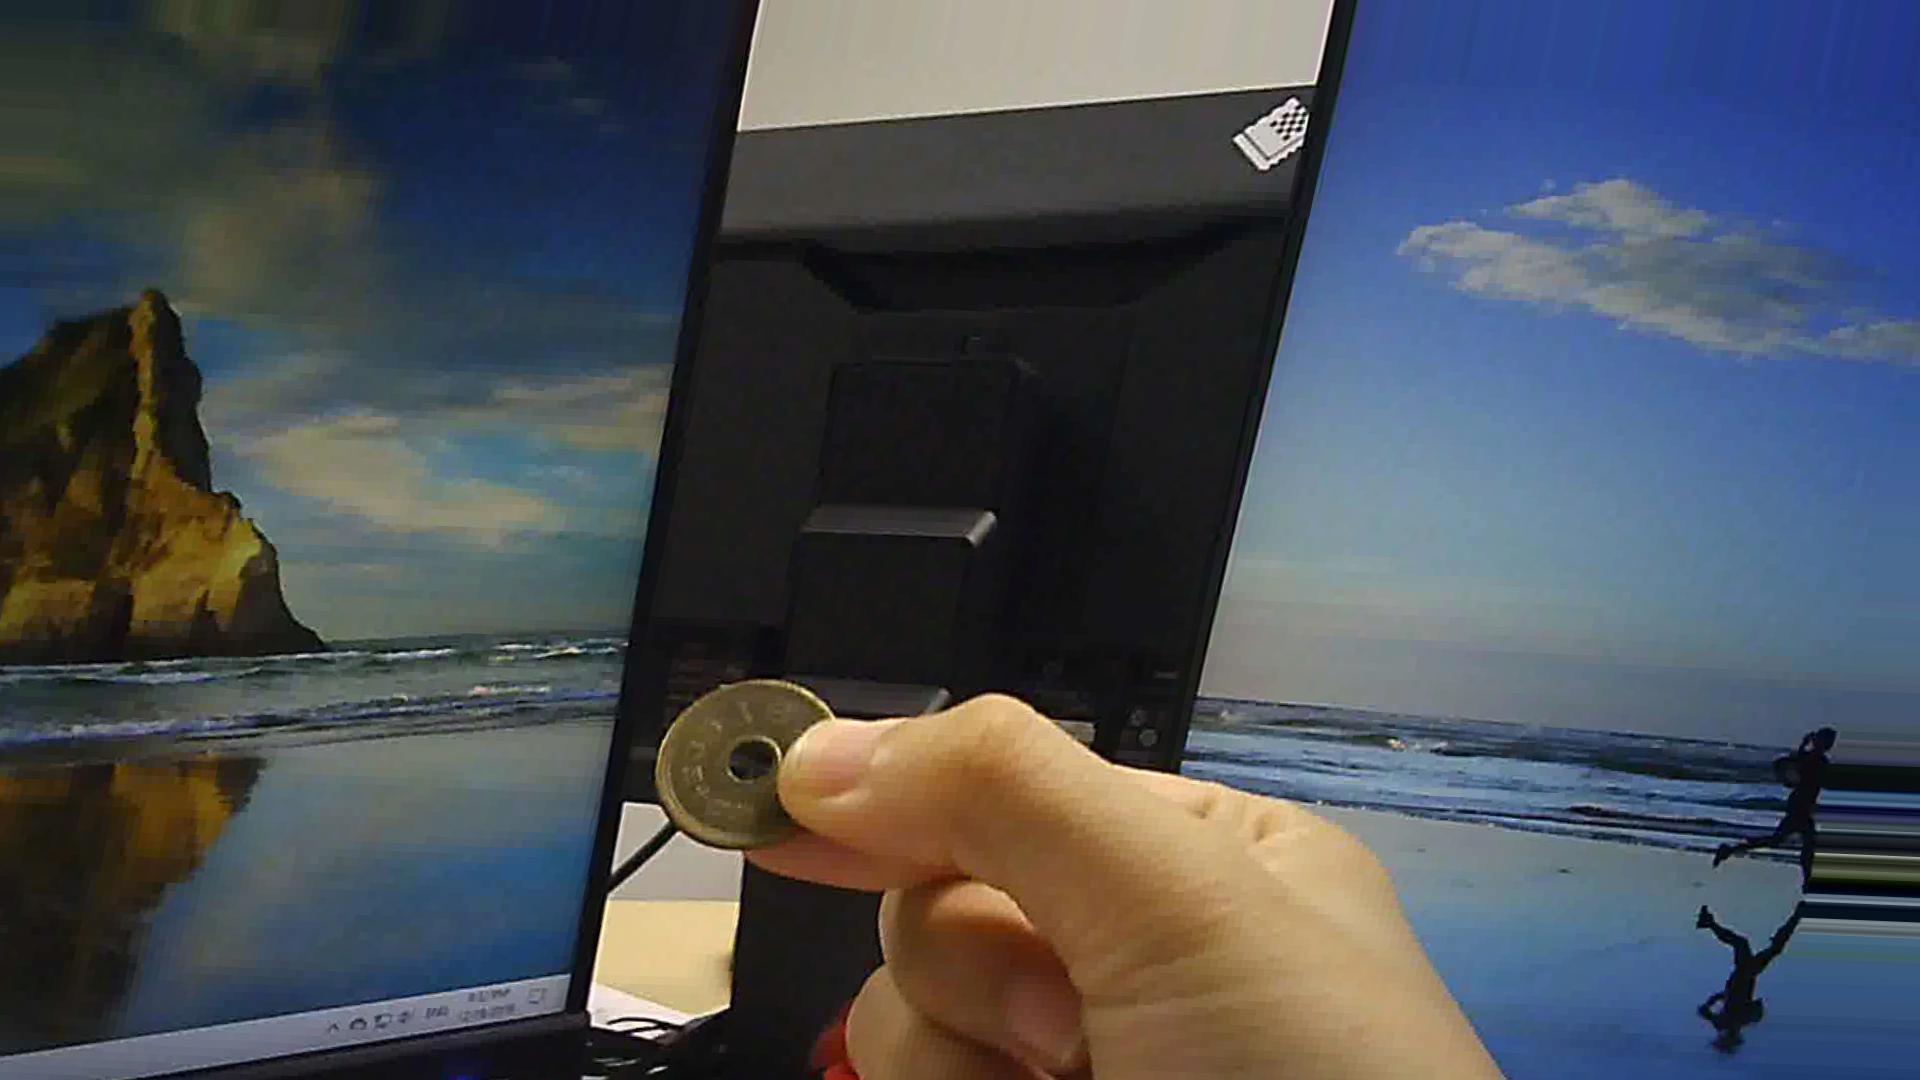5 Yen: (642, 686, 847, 852)
